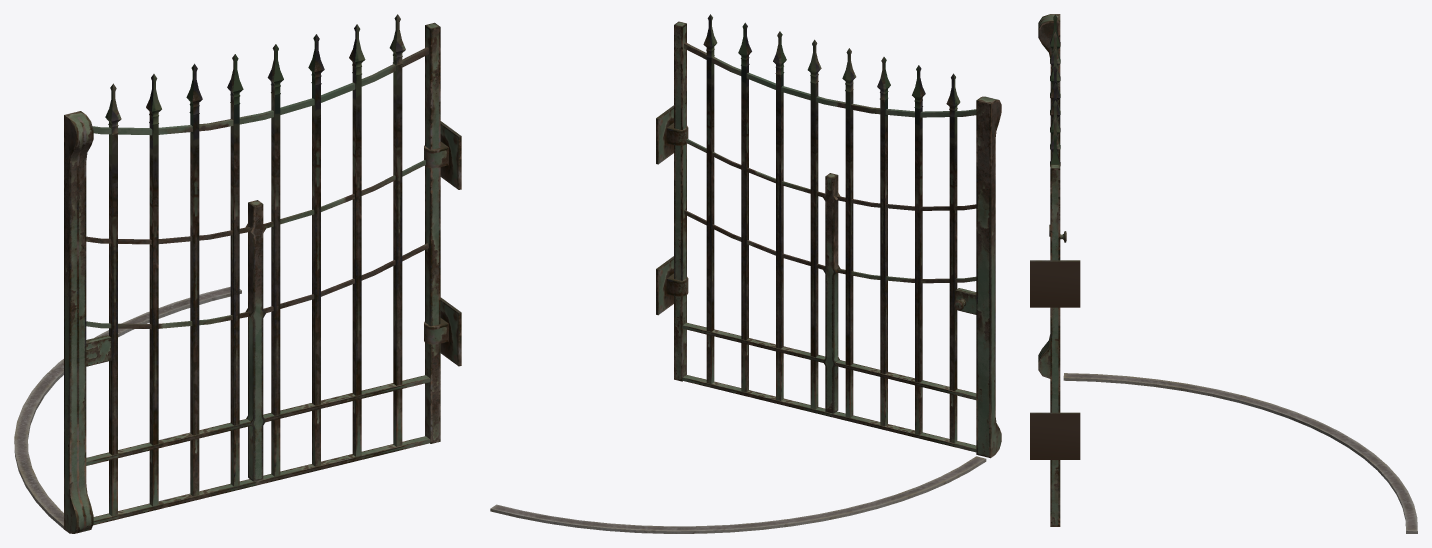
Rendered from Garden_Gate_Flap_1Sided.FBX.
The picture shows the model from 3 angles, left to right: view 1: azimuth 30°, elevation 25°; view 2: azimuth 150°, elevation 25°; view 3: azimuth 270°, elevation 25°; orthographic projection. The views are drawn at different scales.
Visible parts, largest first — view 1: Garden_Gate_Flap_Base_R (×2), Garden_Gate_Flap_Rail_R; view 2: Garden_Gate_Flap_Base_R (×2), Garden_Gate_Flap_Rail_R; view 3: Garden_Gate_Flap_Base_R (×2), Garden_Gate_Flap_Rail_R.
Part boxes in pixels (bbox=[...]): Garden_Gate_Flap_Base_R (×2): bbox=[64, 14, 461, 533]; Garden_Gate_Flap_Rail_R: bbox=[14, 286, 241, 528]; Garden_Gate_Flap_Base_R (×2): bbox=[656, 14, 1001, 458]; Garden_Gate_Flap_Rail_R: bbox=[490, 456, 986, 533]; Garden_Gate_Flap_Base_R (×2): bbox=[1030, 14, 1080, 526]; Garden_Gate_Flap_Rail_R: bbox=[1063, 373, 1417, 533].
Bounding box in the file's own units: 273 × 302 × 279.
